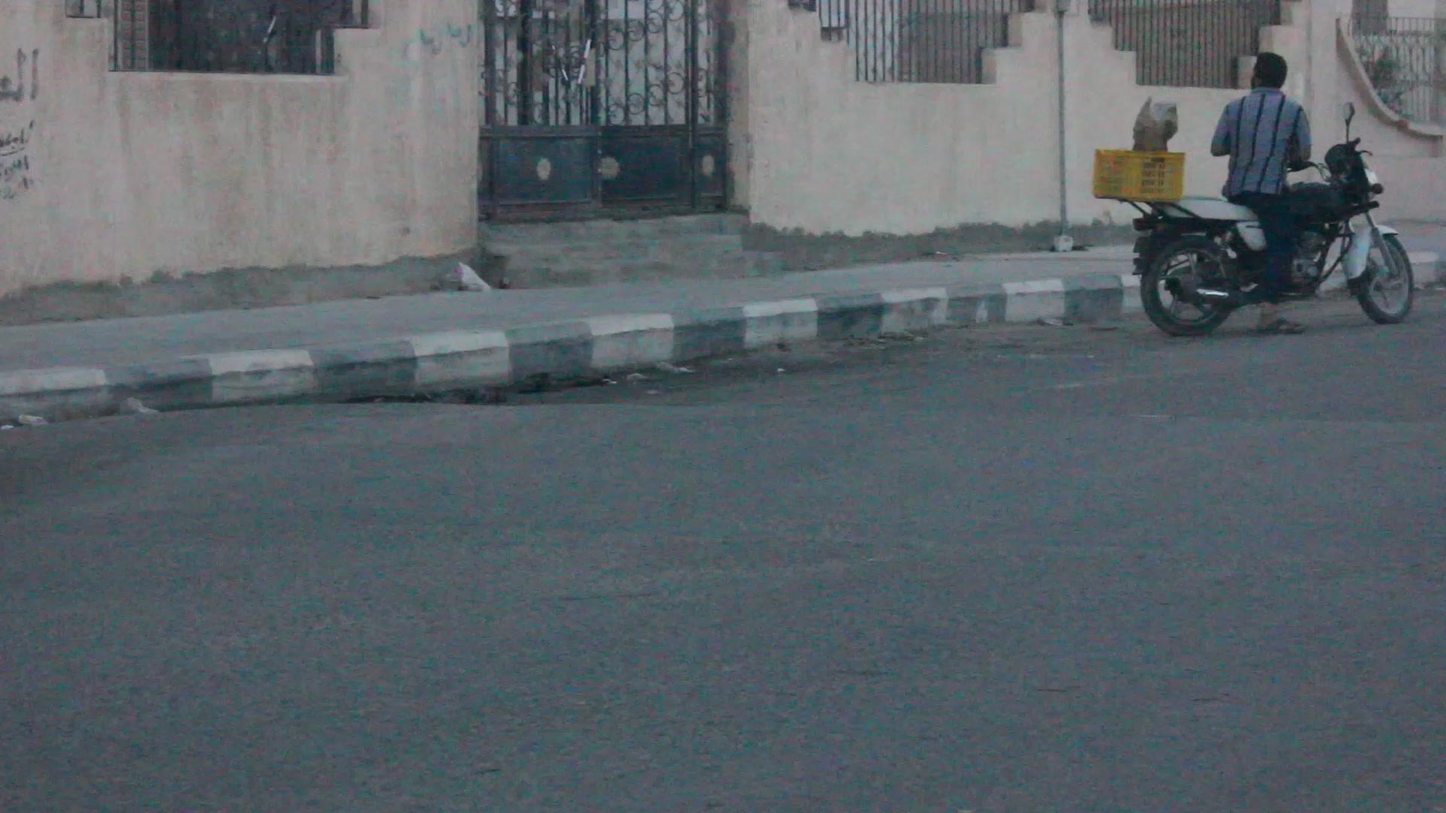Bump: (9, 414, 1446, 551)
